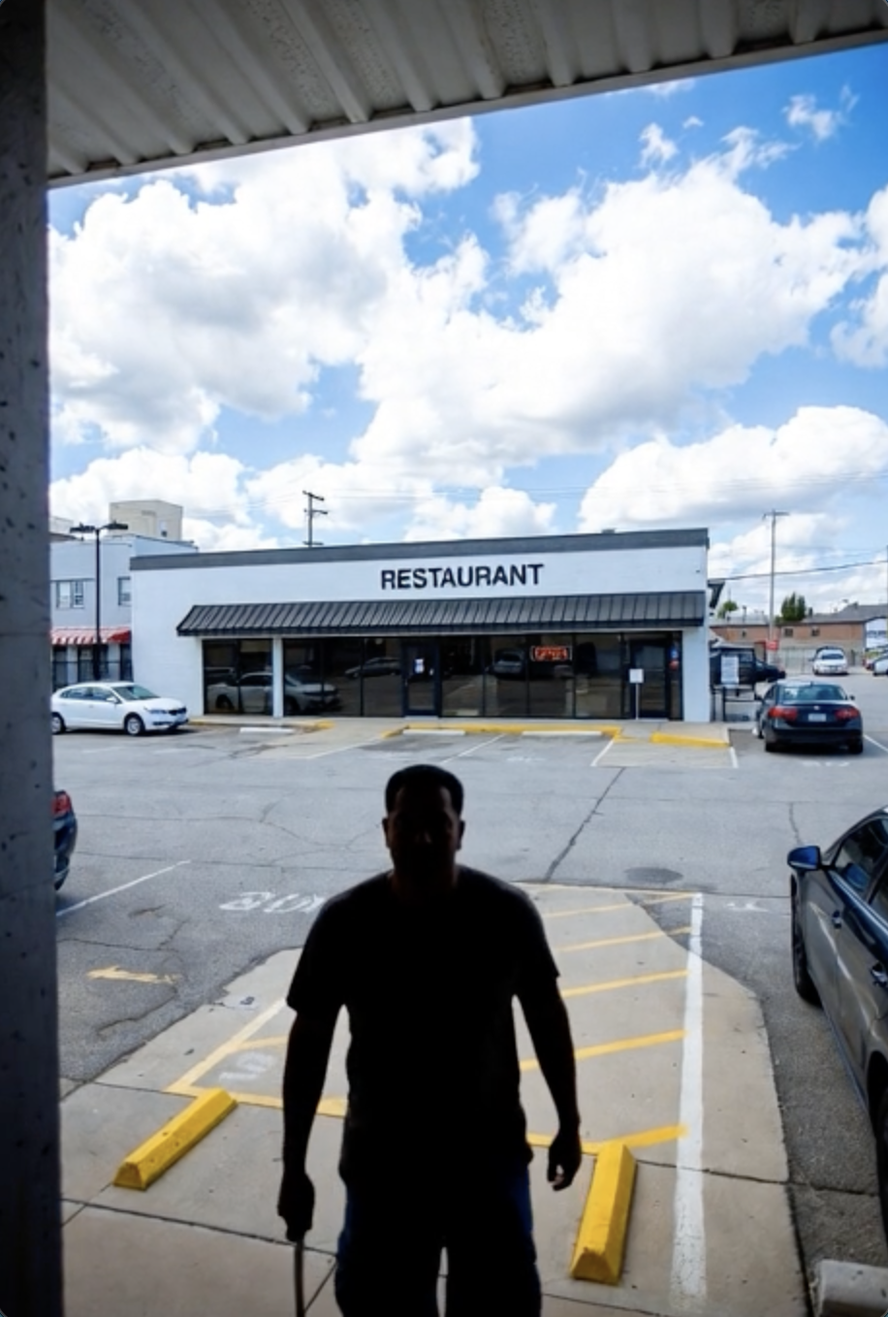Heavy Gun: (270, 750, 587, 1317)
Knife: (268, 1172, 323, 1317)
